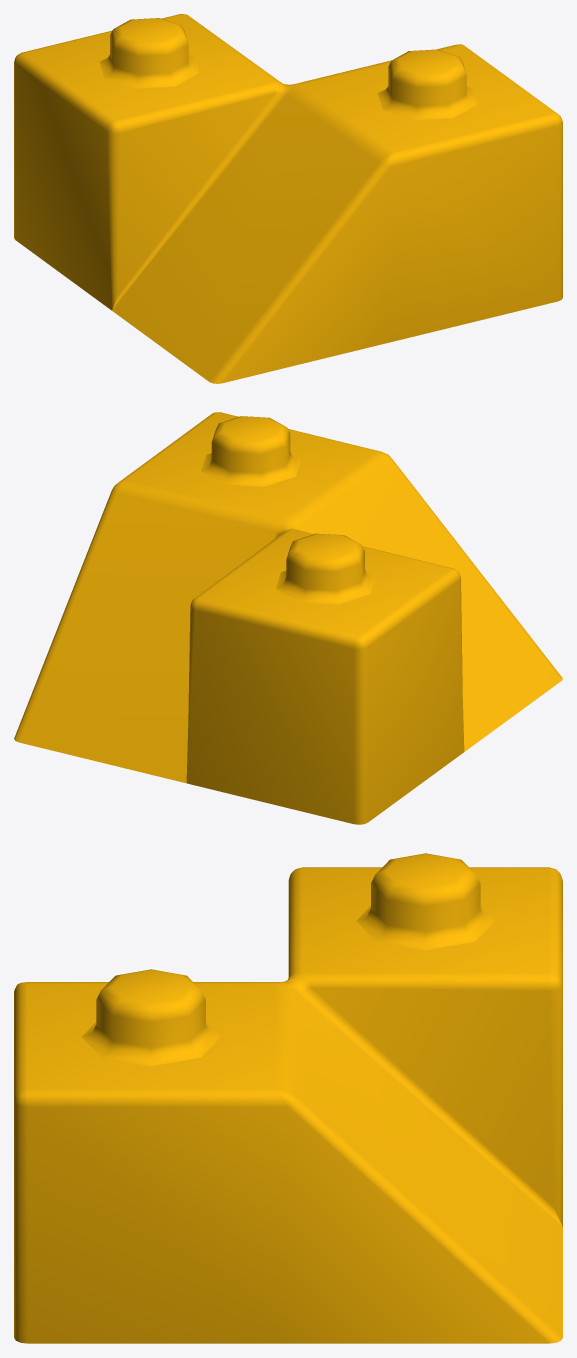
The model's file is Opposite_Bevel_Rotated_Half.fbx.
3 views of the same model, one above another, from view 1: azimuth 30°, elevation 25°; view 2: azimuth 150°, elevation 25°; view 3: azimuth 270°, elevation 25° (orthographic). The views are drawn at different scales.
Visible parts, largest first — view 1: Opposite_Bevel_Rotated_Half, Knobs.036; view 2: Opposite_Bevel_Rotated_Half, Knobs.036; view 3: Opposite_Bevel_Rotated_Half, Knobs.036.
Boxes of the visible parts, x1,y1,x2,y2 form: Opposite_Bevel_Rotated_Half: (14,14,562,383); Knobs.036: (99,18,477,119); Opposite_Bevel_Rotated_Half: (14,412,562,824); Knobs.036: (201,416,375,604); Opposite_Bevel_Rotated_Half: (14,867,562,1343); Knobs.036: (82,853,495,1066).
Bounding box in the file's own units: 1 × 0.6 × 1.
